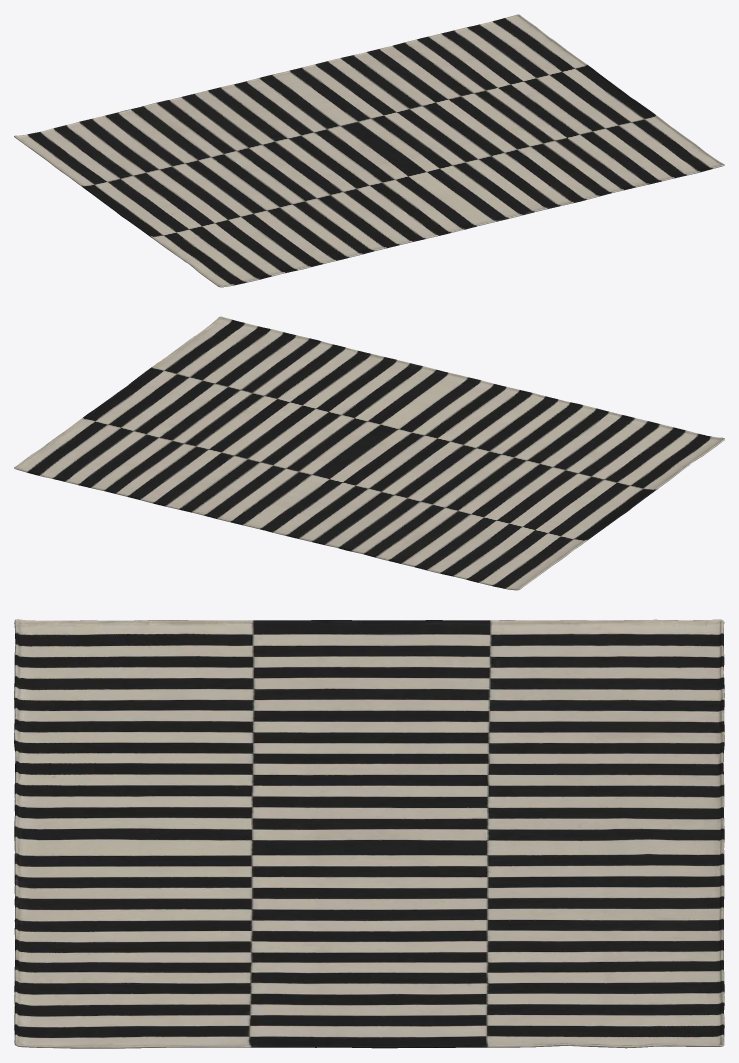
3 renders of one model, top to bottom at view 1: azimuth 30°, elevation 25°; view 2: azimuth 150°, elevation 25°; view 3: azimuth 270°, elevation 25°, orthographic. The views are drawn at different scales.
Parts seen in each view (by area): view 1: PRT_p843ke5v_P01_S01_NV01_PQPM5000; view 2: PRT_p843ke5v_P01_S01_NV01_PQPM5000; view 3: PRT_p843ke5v_P01_S01_NV01_PQPM5000.
Part boxes in pixels (x1=…): PRT_p843ke5v_P01_S01_NV01_PQPM5000: x1=14, y1=14, x2=724, y2=287; PRT_p843ke5v_P01_S01_NV01_PQPM5000: x1=14, y1=316, x2=724, y2=590; PRT_p843ke5v_P01_S01_NV01_PQPM5000: x1=14, y1=619, x2=724, y2=1048.
Bounding box in the file's own units: 2.4 × 0.0193 × 1.7.
1 material, 1 textured.
